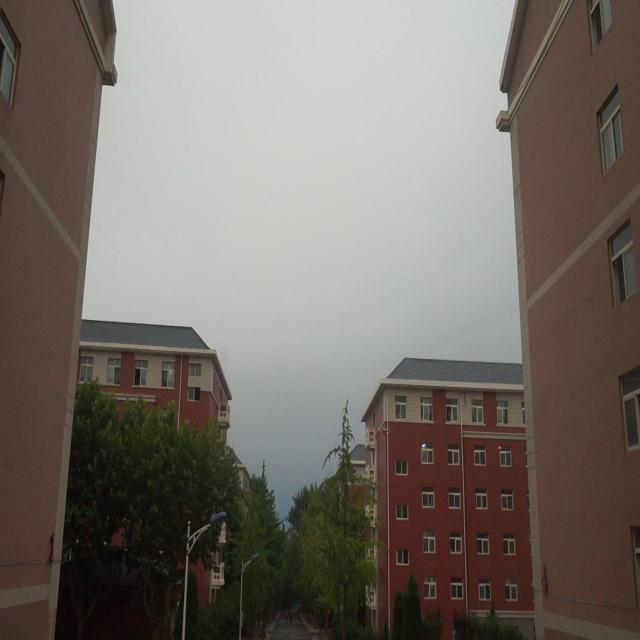drone: (376, 421, 392, 440)
